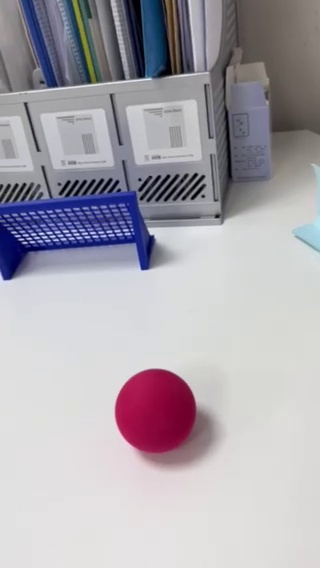goal: (1, 186, 156, 283)
redball: (113, 368, 196, 454)
